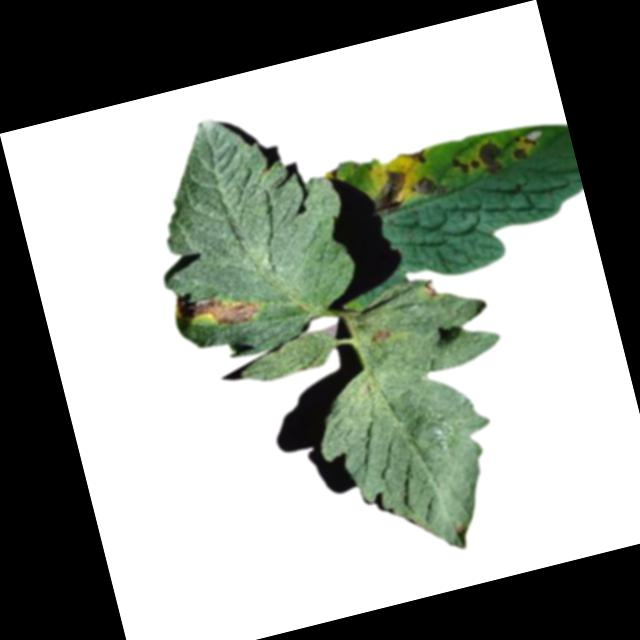Early_blight: (169, 271, 272, 337), (364, 168, 413, 217), (474, 133, 508, 175), (506, 124, 543, 160), (449, 148, 481, 177), (414, 172, 444, 200), (400, 144, 431, 170), (371, 323, 399, 345), (422, 276, 441, 299)
